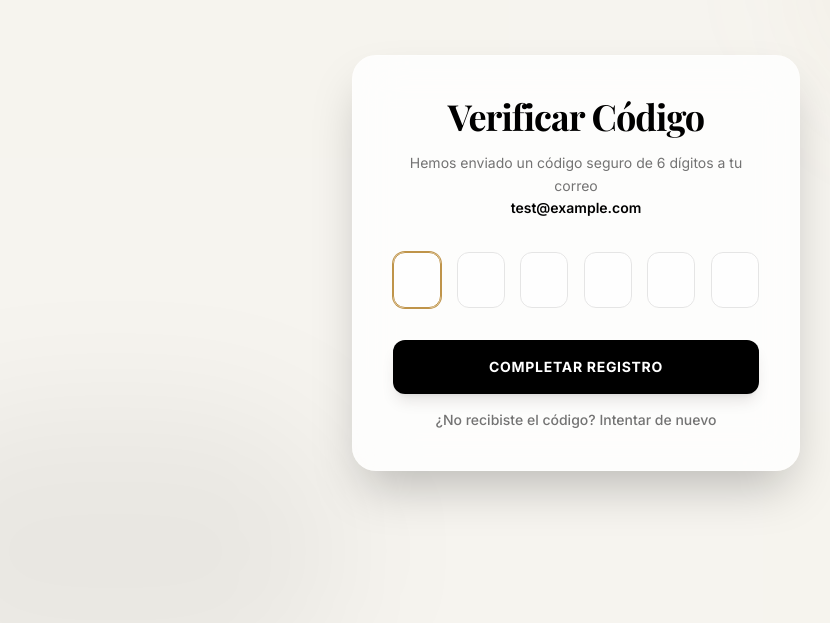
Test: OtpPage › shows error on API failure
In the 1st field: point(417, 280) [393, 252, 441, 308], type "1"
In the 2nd field: point(481, 280) [457, 252, 505, 308], type "1"
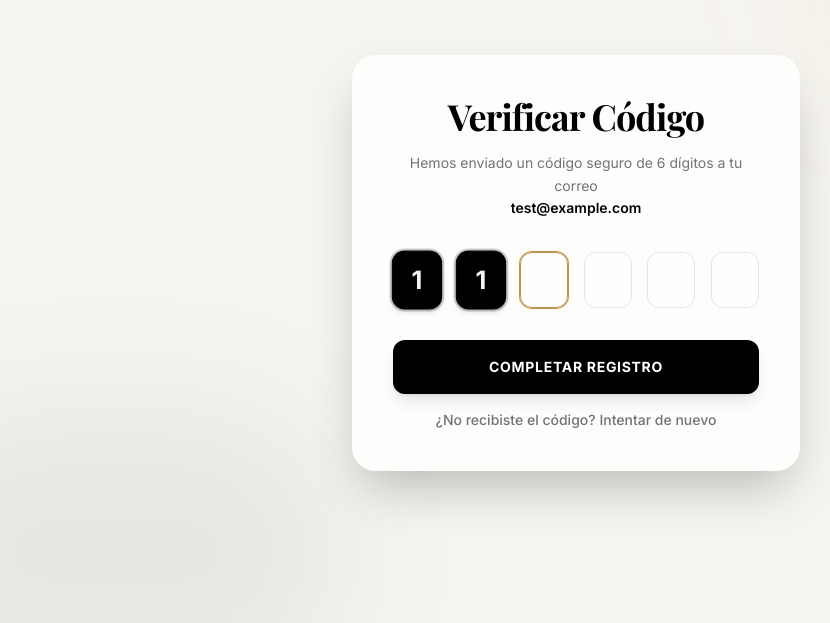
In the 3rd field: point(544, 280) [520, 252, 568, 308], type "1"
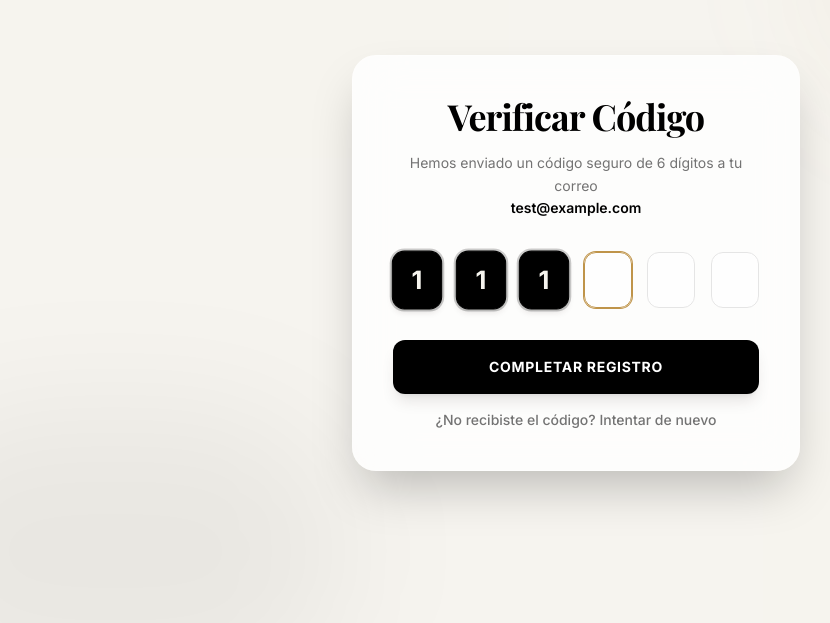
In the 4th field: point(608, 280) [584, 252, 632, 308], type "1"
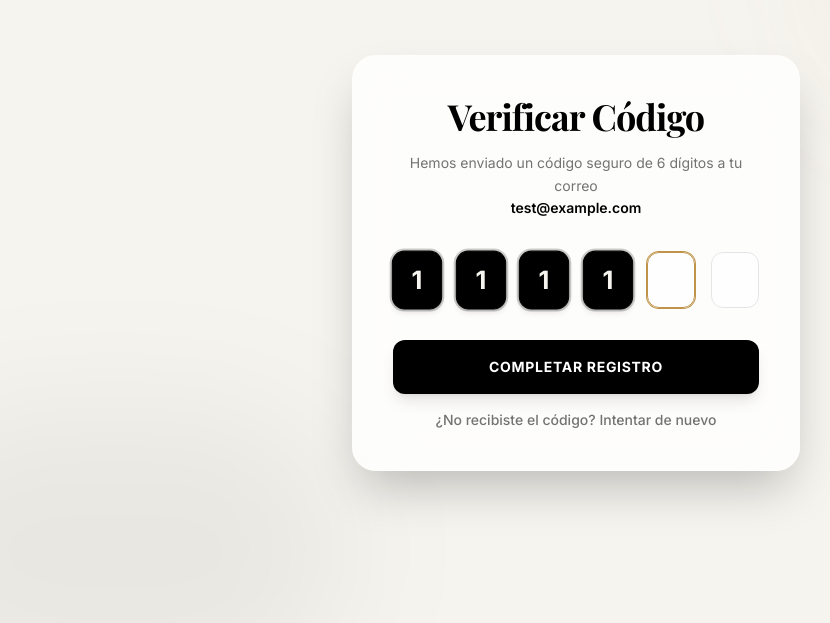
In the 5th field: point(671, 280) [647, 252, 695, 308], type "1"
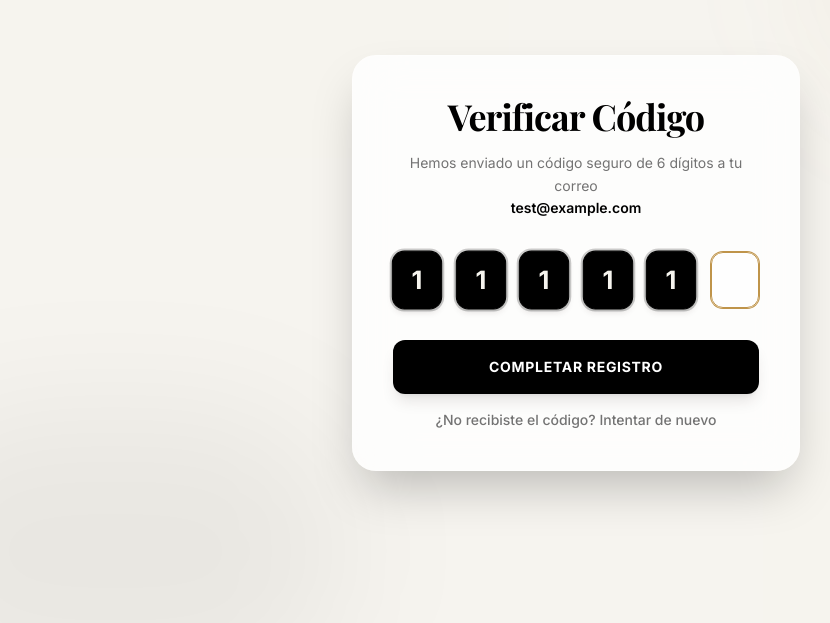
In the 6th field: point(735, 280) [711, 252, 759, 308], type "1"
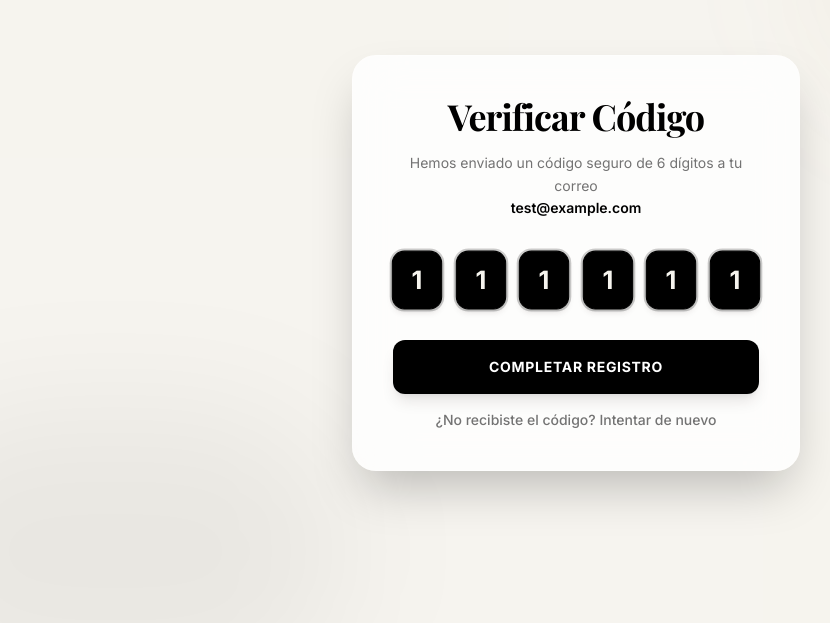
Click the button "Completar Registro": point(576, 367) [393, 340, 759, 394]
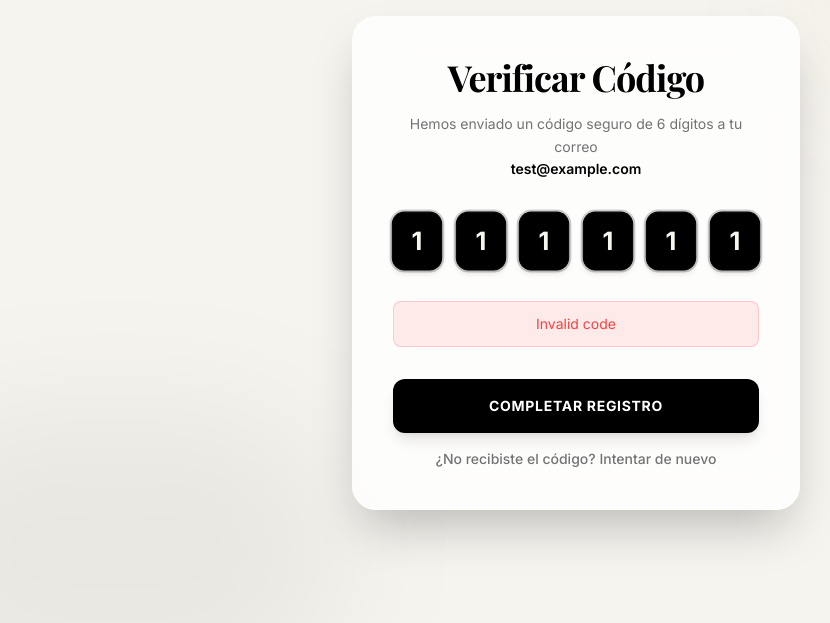
Expected: the text "Invalid code" is shown, [393, 301, 759, 347]
